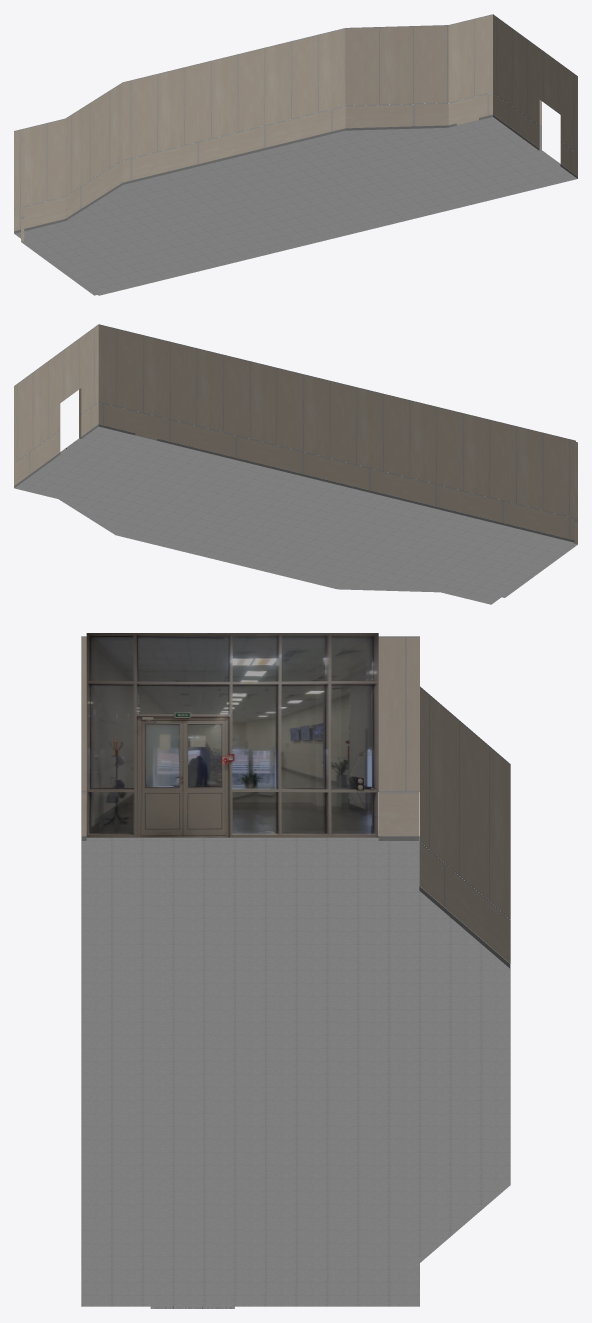
The model's file is Room.glb.
The picture shows the model from 3 angles, top to bottom: view 1: azimuth 30°, elevation 25°; view 2: azimuth 150°, elevation 25°; view 3: azimuth 270°, elevation 25°; orthographic projection. The views are drawn at different scales.
Visible parts, largest first — view 1: Room; view 2: Room; view 3: Room.
Boxes of the visible parts, left/top/right/bottom form: Room: left=14, top=14, right=577, bottom=295; Room: left=14, top=324, right=577, bottom=604; Room: left=81, top=633, right=510, bottom=1308.
Size of the model in its own units: 21.76 by 4.4 by 8.37.
Materials: 5 (5 with a texture image).
